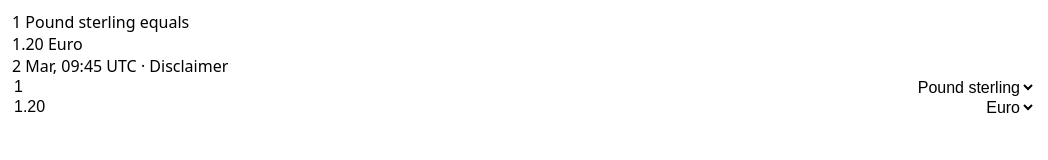
Test: ConversionLayout functional behaviour › updates conversion when amount changes
The image size is (1048, 160).
Replace the text in the field labelled "Amount in Pound sterling" with "2". click: (238, 87)
box: x1=12 y1=77 x2=464 y2=97
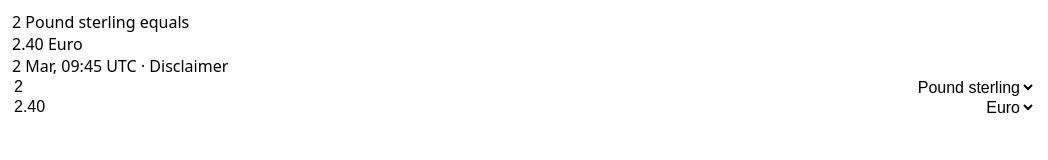
Expected: the text "2.40 Euro" is shown, x1=12 y1=33 x2=83 y2=55
